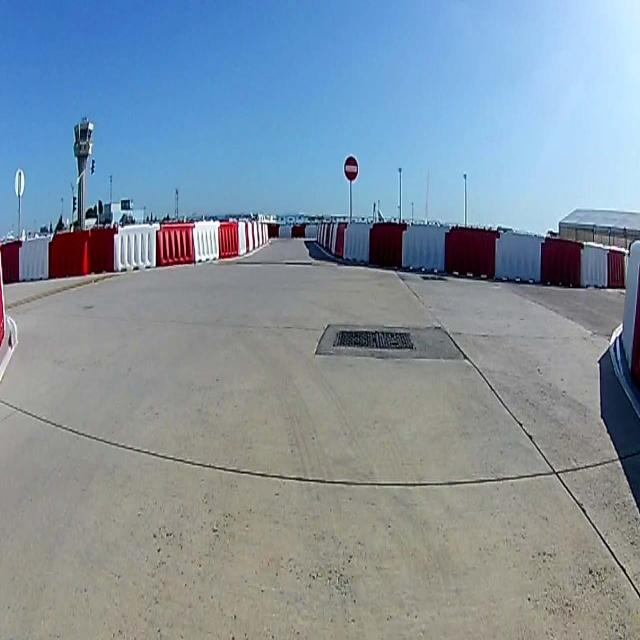girisyok: (344, 154, 358, 180)
